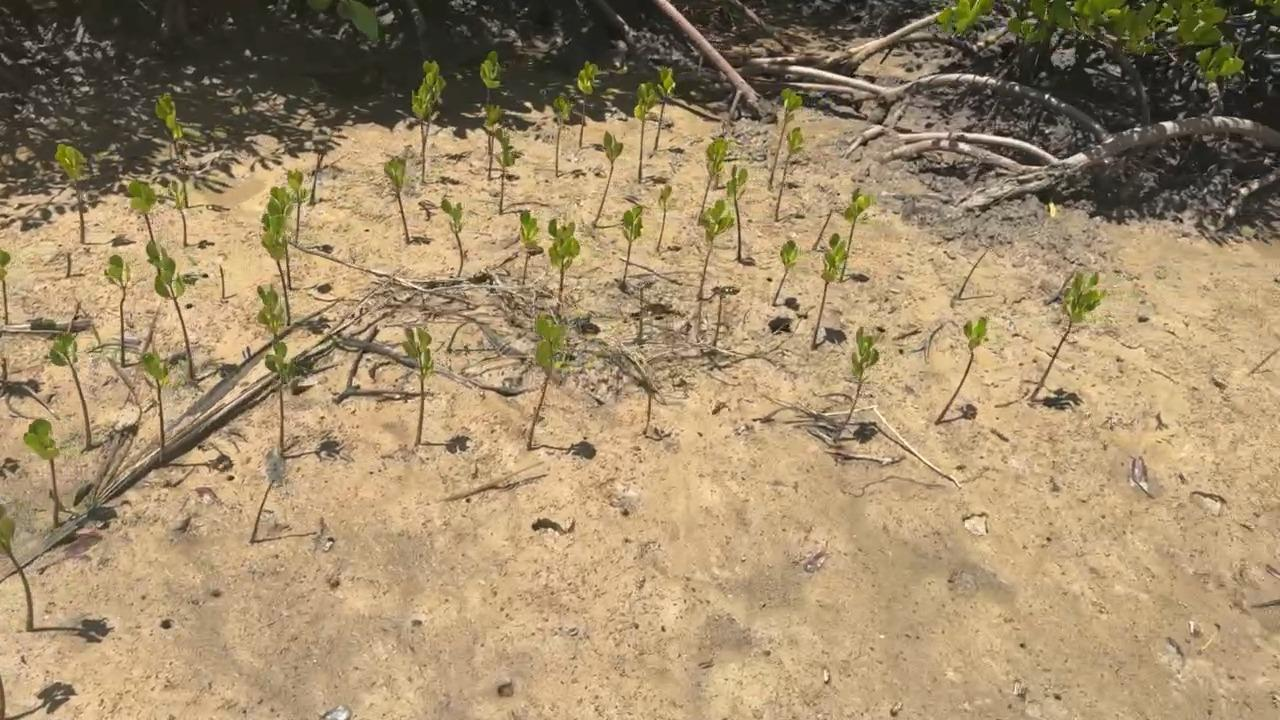Tree: (1031, 270, 1107, 396), (146, 239, 193, 381), (934, 316, 987, 425), (525, 315, 566, 451), (47, 331, 91, 449), (0, 504, 34, 632), (810, 233, 847, 348), (22, 418, 60, 527), (402, 325, 434, 446), (767, 87, 802, 191), (260, 214, 291, 326), (54, 143, 87, 245), (265, 340, 295, 452), (592, 129, 624, 228), (103, 255, 131, 368), (838, 187, 870, 283), (266, 185, 294, 288), (699, 199, 735, 278), (144, 350, 169, 463), (774, 125, 803, 220), (546, 217, 580, 291), (383, 155, 410, 244), (633, 82, 656, 184), (725, 163, 749, 259), (411, 83, 433, 183), (850, 327, 881, 397), (698, 138, 727, 211), (420, 60, 446, 139), (154, 90, 182, 163), (576, 61, 598, 149), (652, 67, 674, 151), (771, 240, 798, 306), (495, 127, 515, 215), (128, 180, 156, 241), (250, 478, 276, 543), (518, 208, 540, 283), (622, 204, 643, 280), (958, 249, 990, 297), (255, 284, 284, 336), (553, 98, 571, 178), (166, 180, 188, 245), (286, 168, 308, 232), (484, 103, 501, 179), (441, 198, 464, 253), (655, 183, 672, 252), (479, 50, 501, 102), (308, 151, 325, 206), (812, 210, 833, 250), (0, 250, 10, 326), (218, 264, 225, 298), (66, 252, 72, 277)
